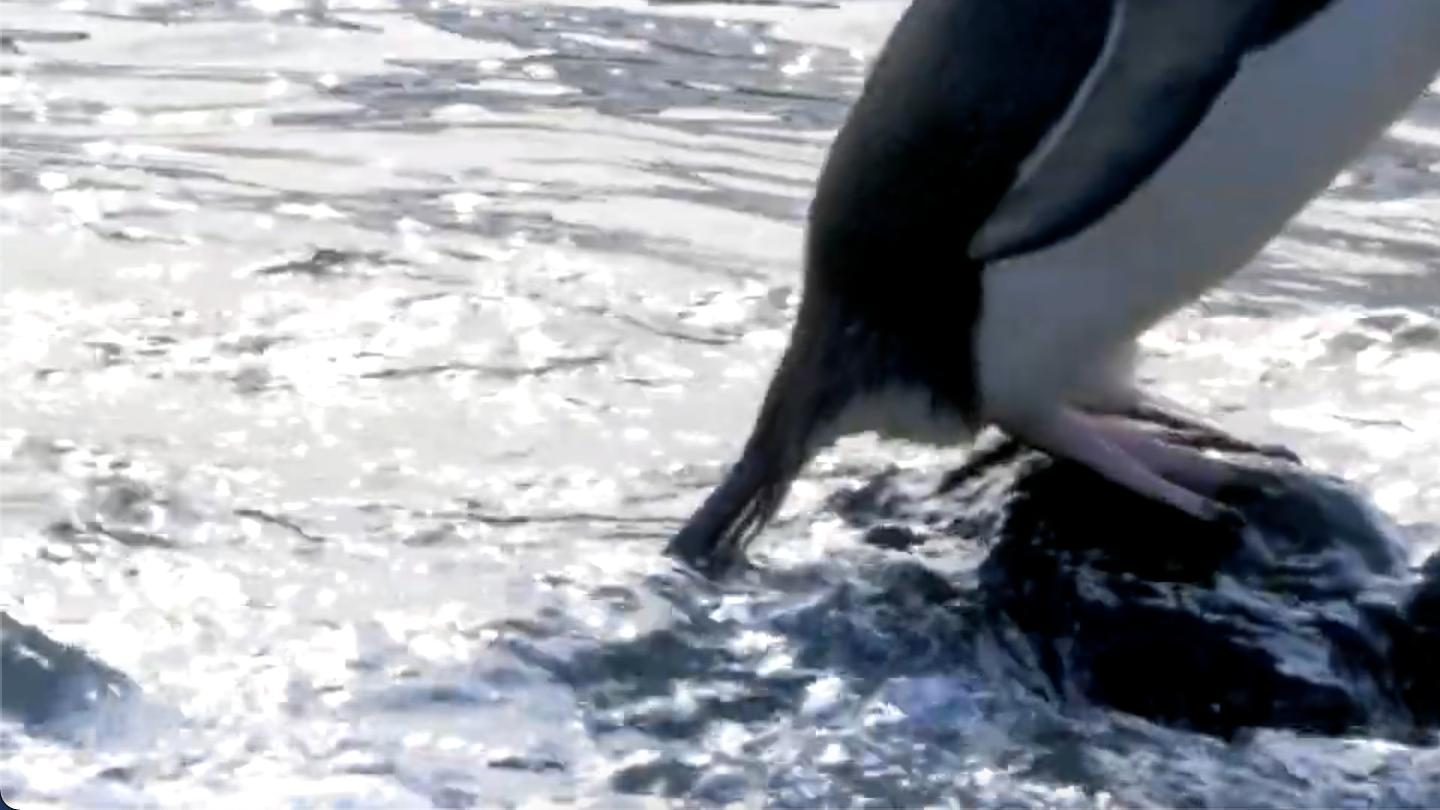Chinstrap Penguin: (685, 0, 1440, 539)
